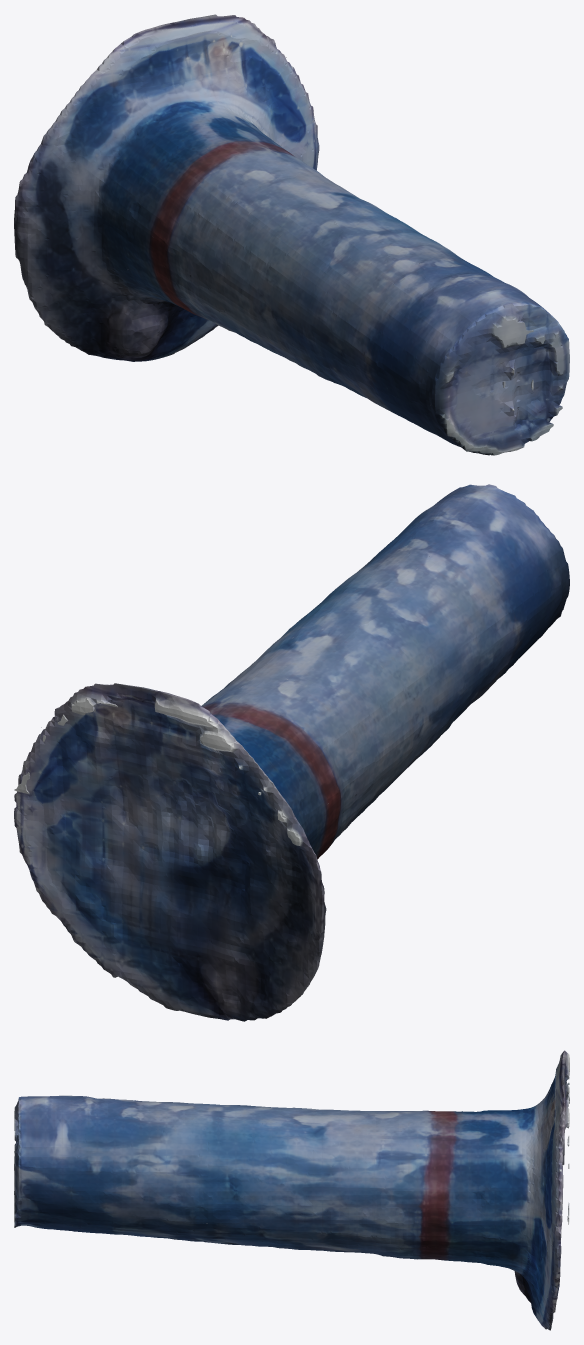
File: 0_rgba.obj
3 views of the same model, one above another, from view 1: azimuth 30°, elevation 25°; view 2: azimuth 150°, elevation 25°; view 3: azimuth 270°, elevation 25° (orthographic). The views are drawn at different scales.
Size of the model in its own units: 1.04 by 1.05 by 2.01.
Materials: 1 (1 with a texture image).
